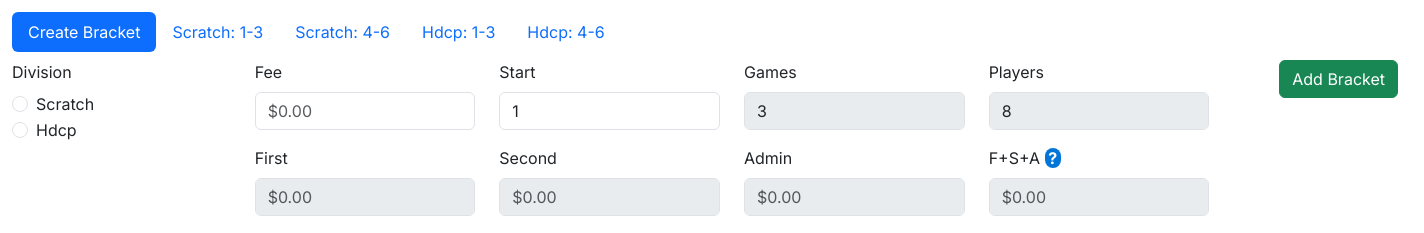
Test case: ZeroToNBrackets - Component › render the component › render the "Scratch 1-3" bracket › render the Division value
Click the tab "Scratch: 1-3".
click(218, 32)  # box x1=156 y1=12 x2=279 y2=52
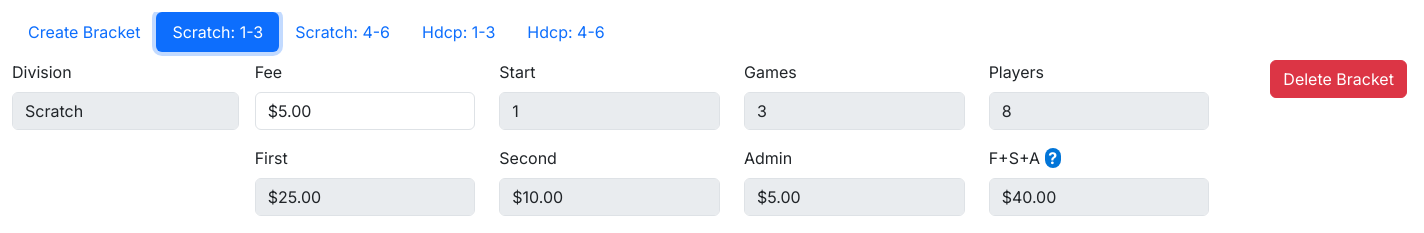
expect the number of fields labelled "Division" is 4: met
expect the field labelled "Division" holds "Scratch": met, box x1=12 y1=92 x2=239 y2=130
